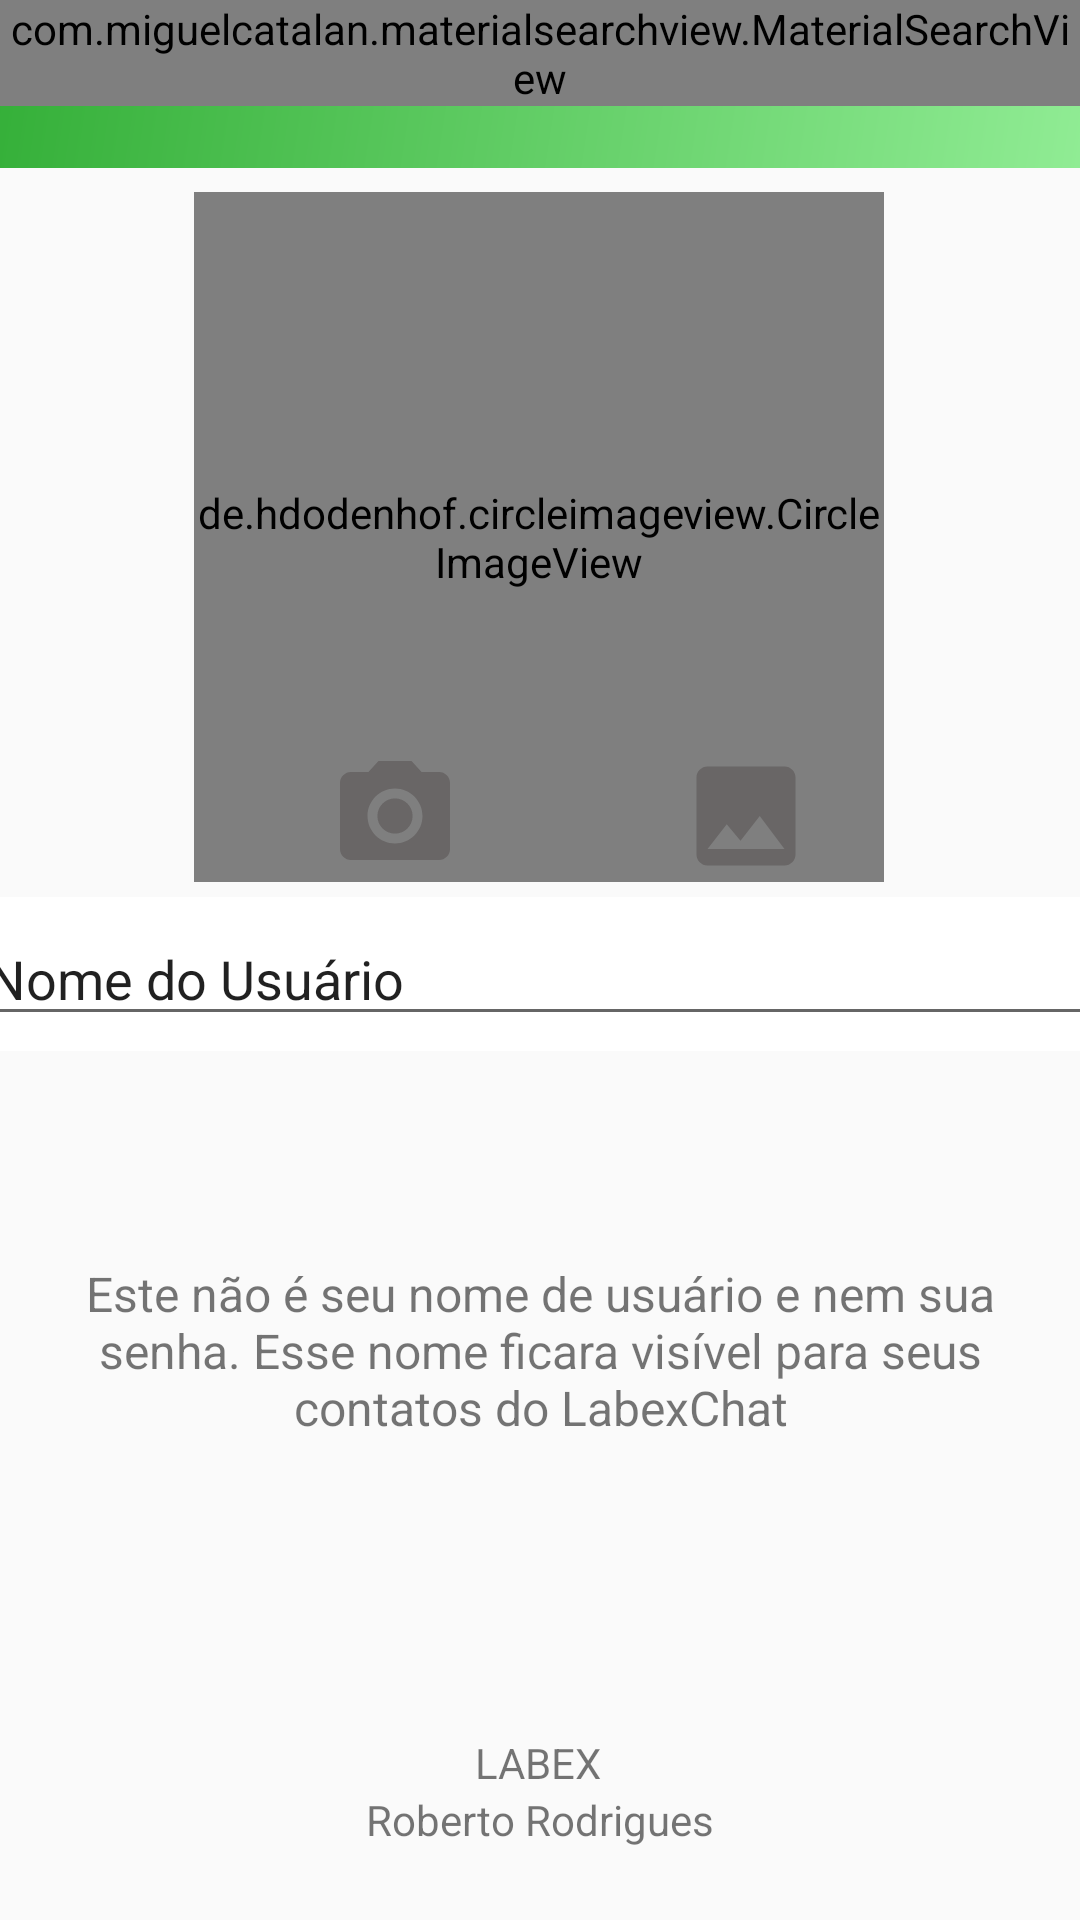

Icons on this 1080x1920 Android screen, each with the point to tap as point (x, y):
foto camera: point (395, 810)
inserir foto: point (746, 816)
